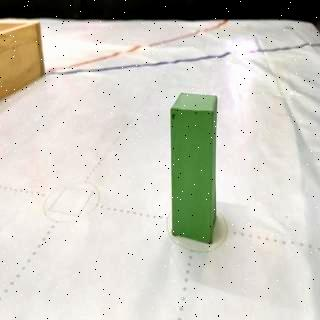greenbox: (170, 92, 218, 246)
